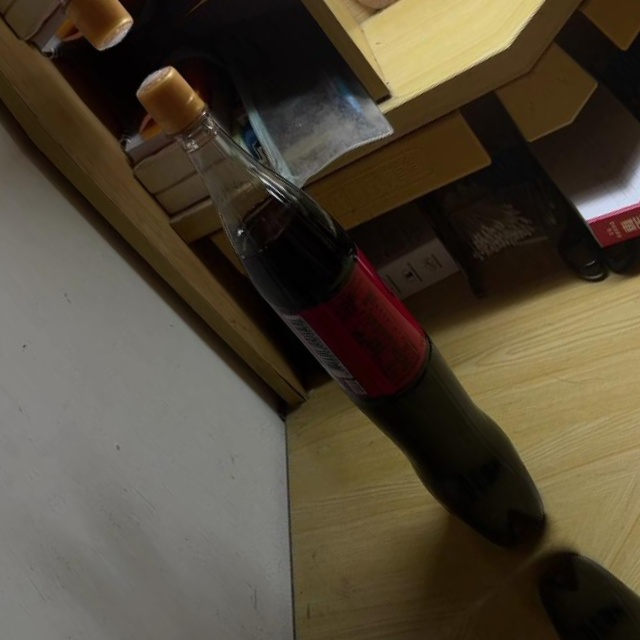Coca-Cola: (104, 42, 582, 584)
